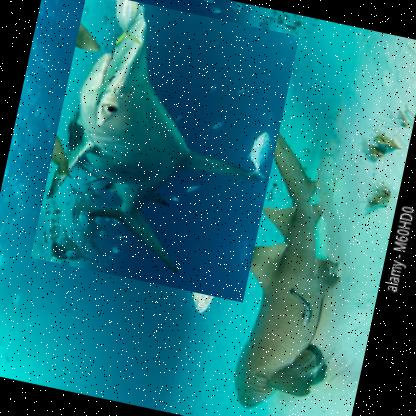hammerhead_Shark: (29, 0, 300, 303)
